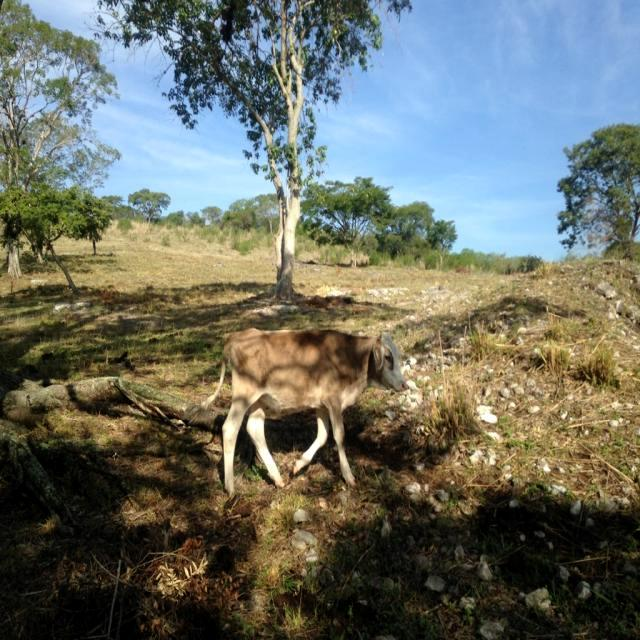COW: (222, 329, 404, 494)
